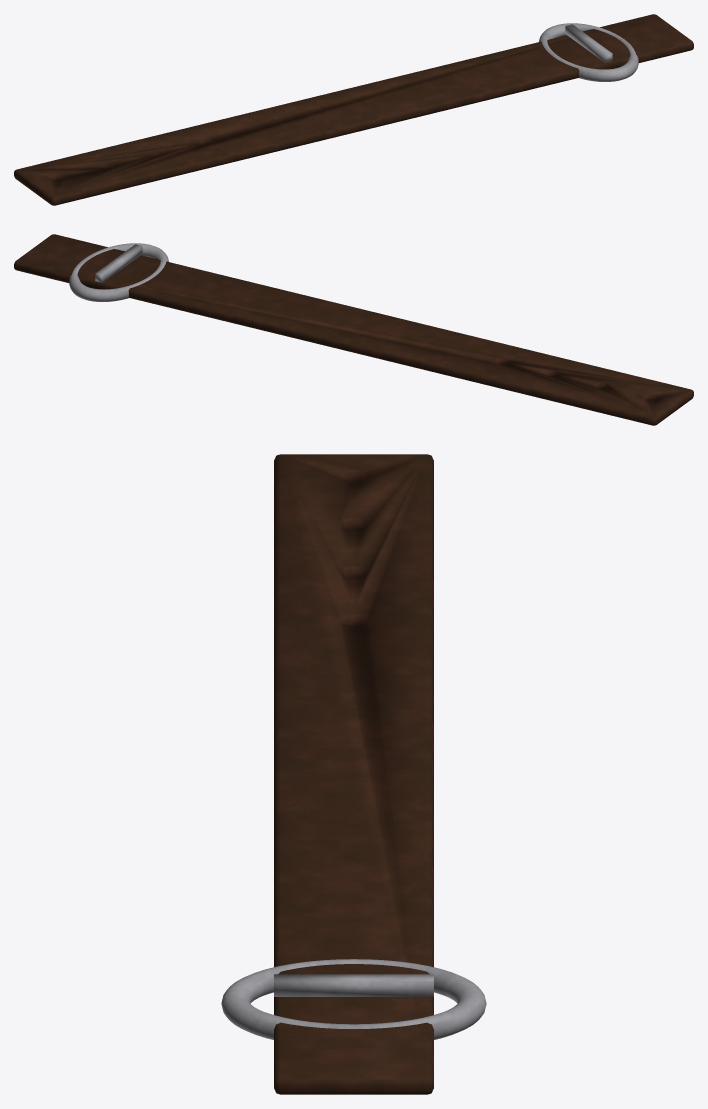
The picture shows the model from 3 angles, top to bottom: view 1: azimuth 30°, elevation 25°; view 2: azimuth 150°, elevation 25°; view 3: azimuth 270°, elevation 25°; orthographic projection. The views are drawn at different scales.
Visible parts, largest first — view 1: riemen, schnalle, dorn; view 2: riemen, schnalle, dorn; view 3: riemen, schnalle, dorn.
Boxes of the visible parts, x1,y1,x2,y2 form: riemen: (14, 14, 693, 205); schnalle: (539, 23, 638, 81); dorn: (565, 24, 612, 62); riemen: (14, 234, 693, 425); schnalle: (69, 243, 168, 301); dorn: (95, 244, 142, 282); riemen: (274, 454, 433, 1094); schnalle: (221, 959, 486, 1039); dorn: (274, 974, 433, 996).
Bounding box in the file's own units: 0.26 × 0.0072 × 0.0465.
Materials: 3 (3 with a texture image).
